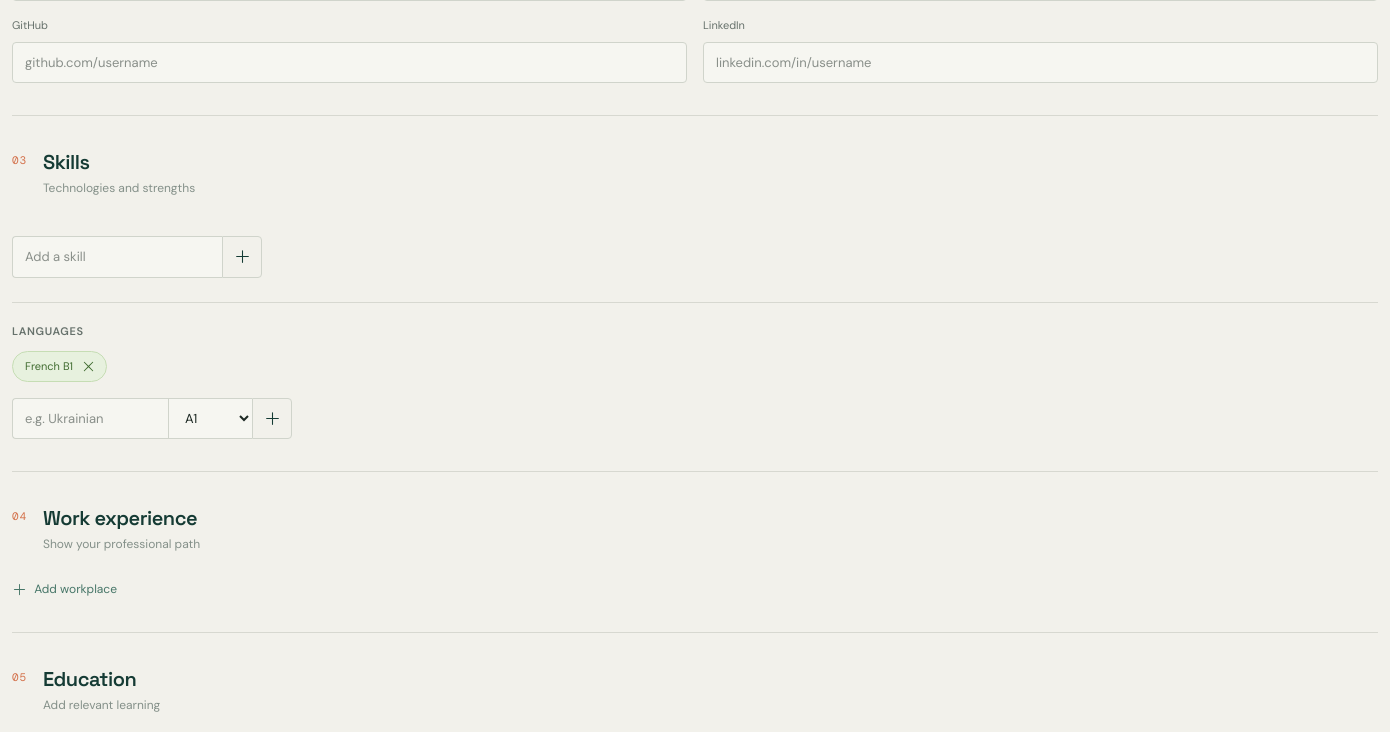
Test: ResumeForm - languages › removes a language chip
(page scrolled)
Click the button named "Remove": (88, 366) [79,357,98,376]
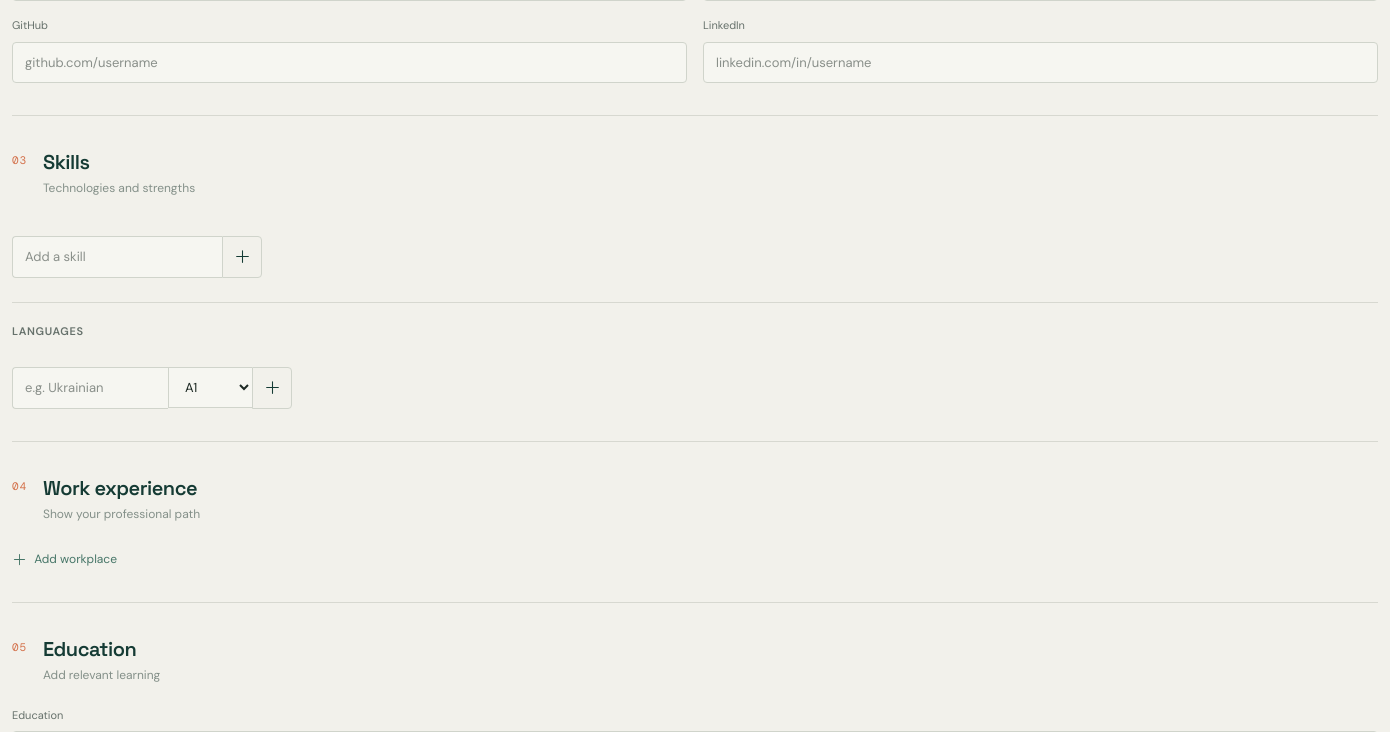
Result: the text "French B1" is gone
